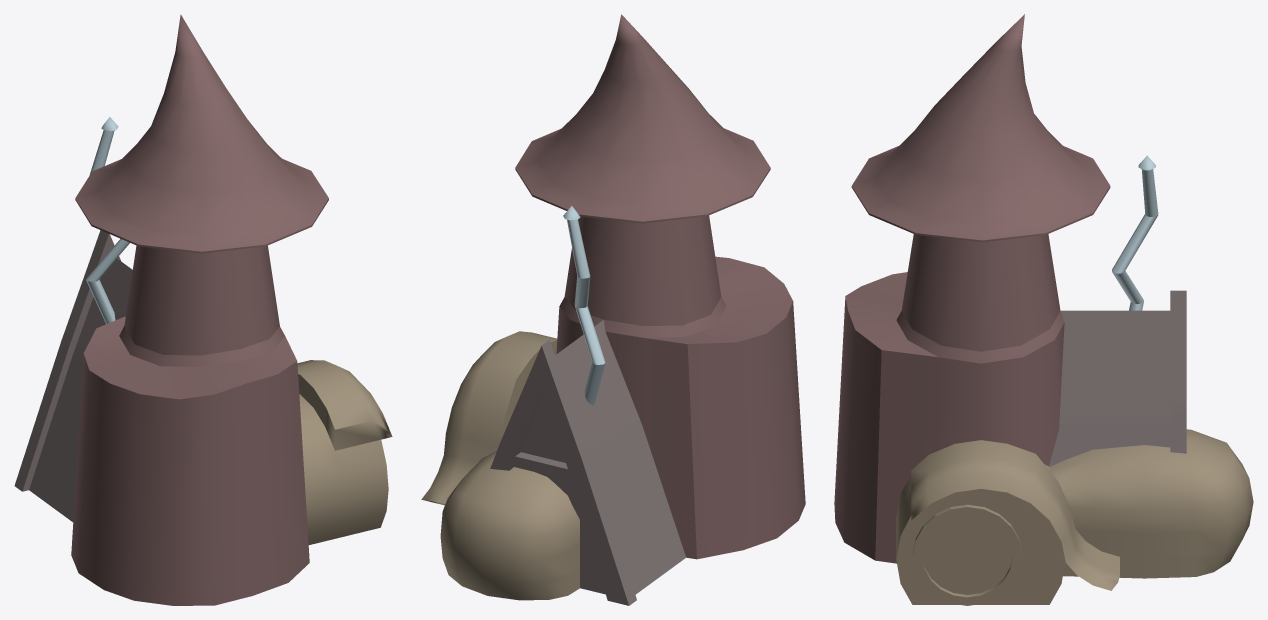
File: House3_blendShape.fbx
3 views of the same model, side by side, from view 1: azimuth 30°, elevation 25°; view 2: azimuth 150°, elevation 25°; view 3: azimuth 270°, elevation 25° (orthographic).
Parts seen in each view (by area): view 1: pCylinder5; view 2: pCylinder5; view 3: pCylinder5.
Part boxes in pixels (x1,y1,x2,y2): pCylinder5: (14, 14, 392, 605); pCylinder5: (421, 14, 805, 605); pCylinder5: (834, 14, 1253, 605).
Size of the model in its own units: 3.96 by 6.76 by 4.95.
